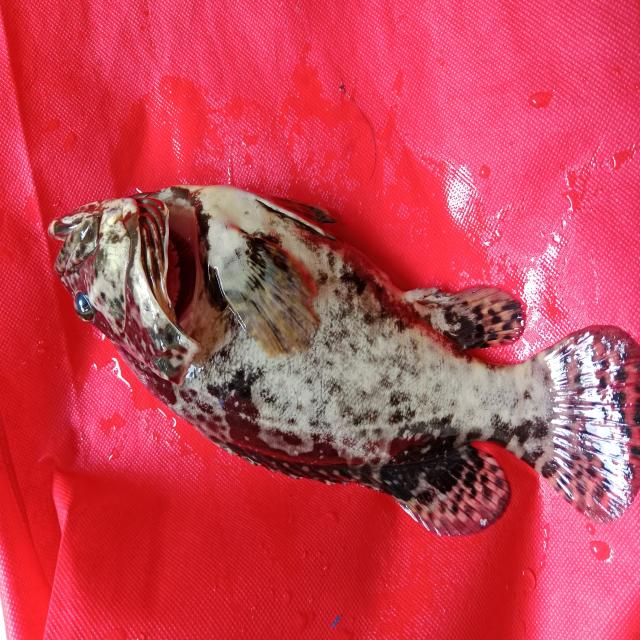ikan: (40, 174, 630, 536)
